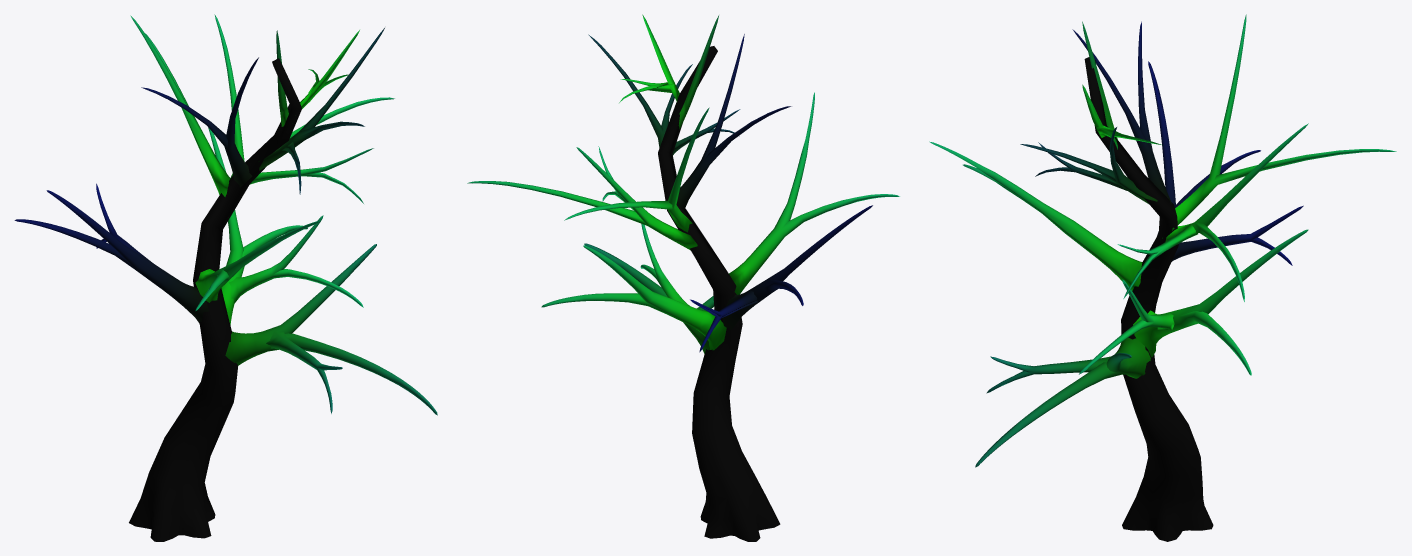
The model's file is No_Leaf_Tree.fbx.
The picture shows the model from 3 angles, left to right: view 1: azimuth 30°, elevation 25°; view 2: azimuth 150°, elevation 25°; view 3: azimuth 270°, elevation 25°; orthographic projection. The views are drawn at different scales.
Parts seen in each view (by area): view 1: treenolleaf_maya__0sg1_basecolor_0; view 2: treenolleaf_maya__0sg1_basecolor_0; view 3: treenolleaf_maya__0sg1_basecolor_0.
Part boxes in pixels (x1,y1,x2,y2): treenolleaf_maya__0sg1_basecolor_0: (14,14,437,541); treenolleaf_maya__0sg1_basecolor_0: (467,14,899,541); treenolleaf_maya__0sg1_basecolor_0: (929,14,1396,541).
Size of the model in its own units: 435 by 537 by 429.
